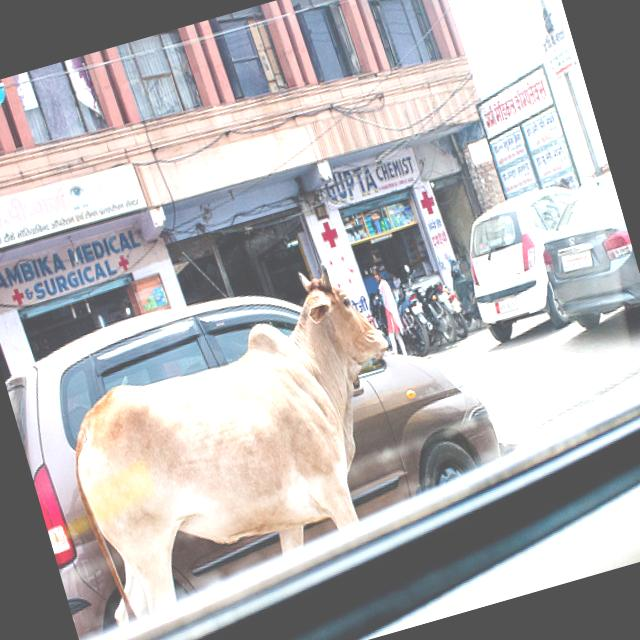Vehicle: (0, 228, 520, 634), (451, 180, 611, 346), (525, 169, 640, 340), (365, 279, 439, 365), (395, 256, 459, 352), (445, 250, 486, 330), (426, 273, 471, 344)
